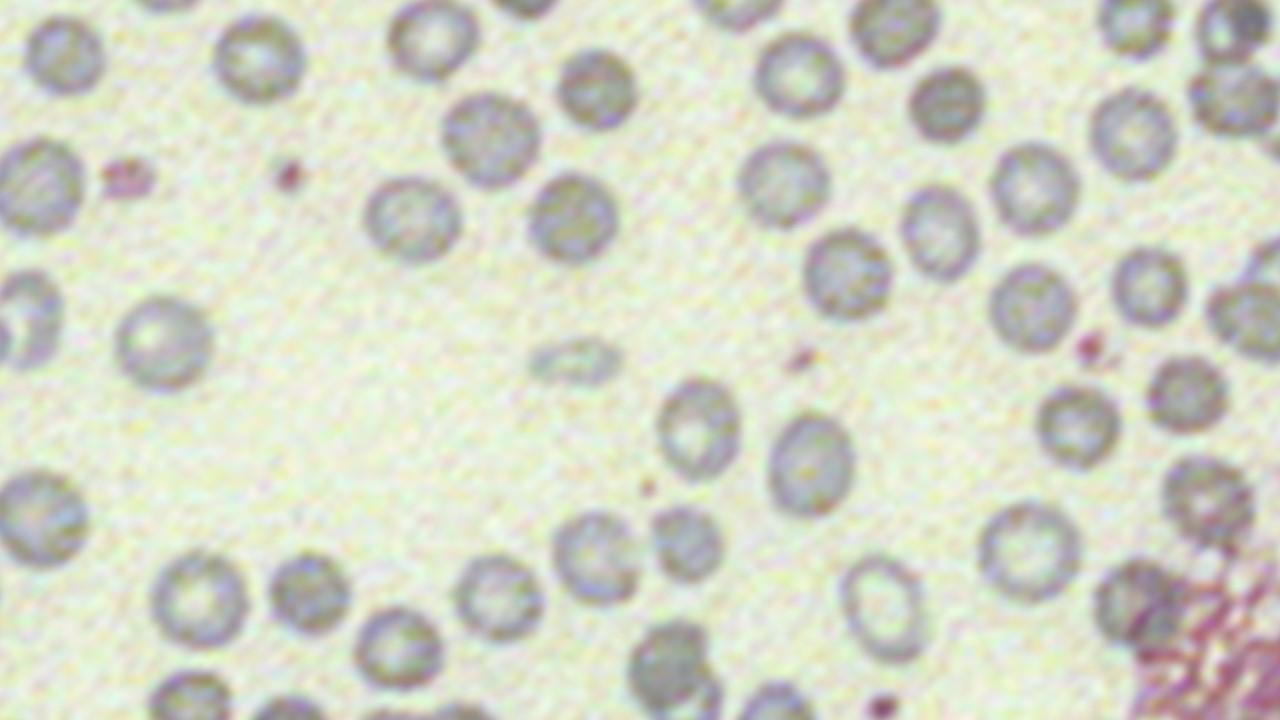RBC: (968, 492, 1088, 608), (828, 548, 938, 670), (143, 544, 255, 658), (648, 370, 748, 491), (204, 7, 314, 112), (729, 134, 840, 238), (434, 87, 546, 189), (519, 167, 624, 272), (0, 459, 95, 575), (446, 547, 552, 650), (796, 221, 898, 328), (545, 502, 646, 610), (986, 135, 1086, 244), (0, 129, 93, 246), (893, 177, 986, 291), (1084, 79, 1180, 187), (748, 28, 852, 126), (348, 600, 450, 698), (1029, 378, 1127, 479), (379, 1, 487, 89), (1140, 348, 1236, 442), (1182, 50, 1278, 142), (901, 60, 993, 154), (1105, 239, 1193, 334), (644, 495, 730, 592), (842, 1, 946, 74)
